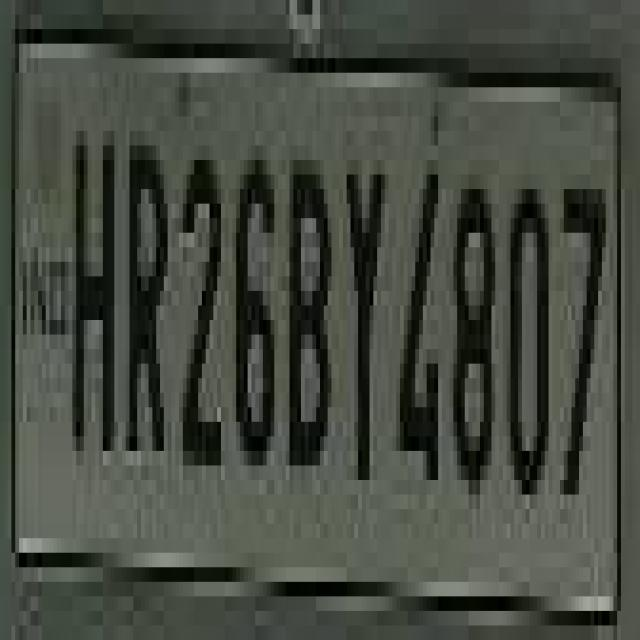license_plate: (0, 14, 617, 596)
